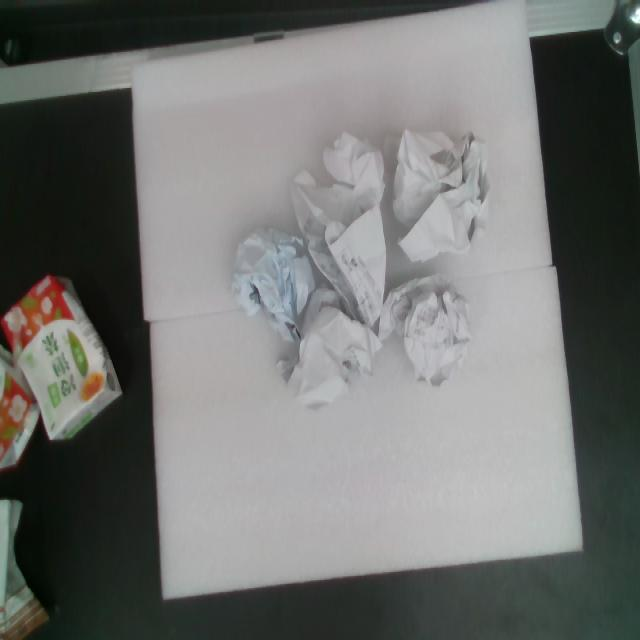paper: (280, 114, 433, 347), (261, 266, 416, 433), (370, 113, 513, 288), (352, 244, 500, 410), (193, 195, 335, 355)
